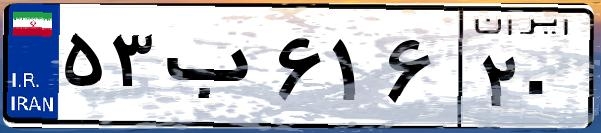0: (525, 38, 570, 115)
1: (330, 28, 385, 110)
2: (475, 38, 525, 113)
3: (110, 28, 158, 98)
5: (57, 26, 110, 100)
6: (270, 28, 330, 110), (385, 28, 445, 110)
ب: (158, 20, 270, 120)
